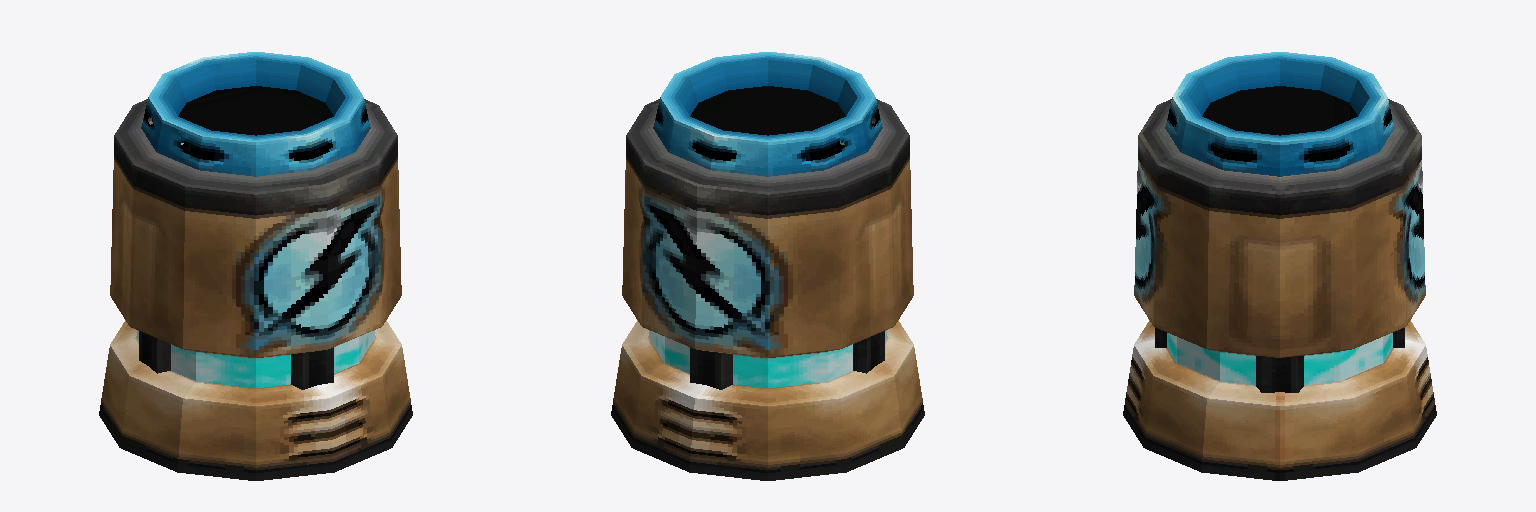
3 views of the same model, side by side, from view 1: azimuth 30°, elevation 25°; view 2: azimuth 150°, elevation 25°; view 3: azimuth 270°, elevation 25° (orthographic).
Parts seen in each view (by area): view 1: Object01; view 2: Object01; view 3: Object01.
Part boxes in pixels (x1,y1,x2,y2): Object01: (99,52,412,480); Object01: (611,52,924,480); Object01: (1123,52,1436,480).
Bounding box in the file's own units: 21.5 × 24 × 21.5.
1 materials, 1 textured.